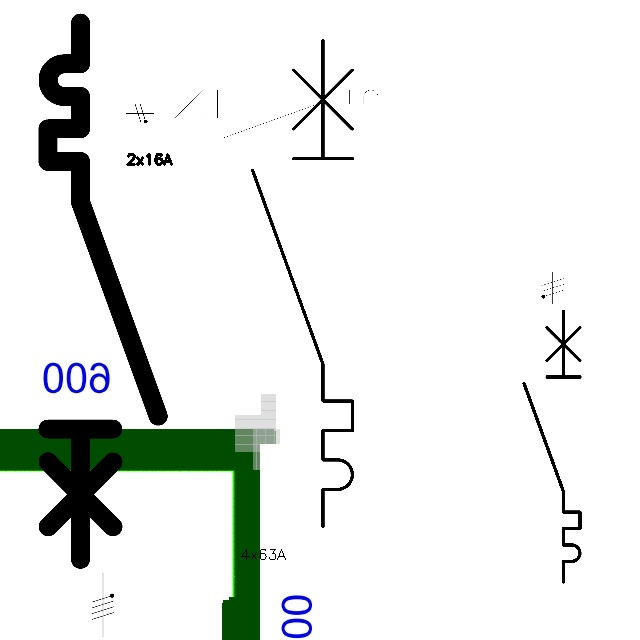interruptor_termomagnetico: (34, 9, 172, 573), (240, 28, 365, 539), (517, 304, 587, 589), (154, 84, 402, 144)
